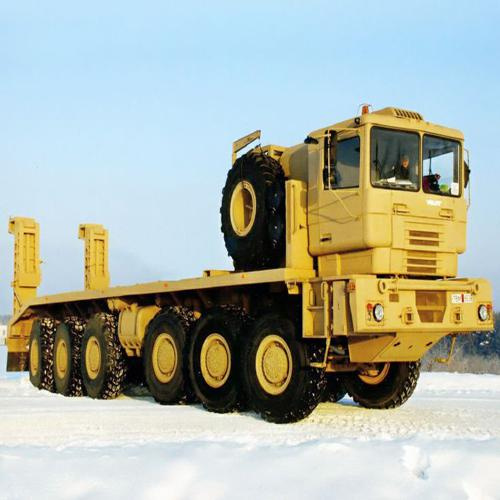con_eq: (8, 107, 497, 410)
